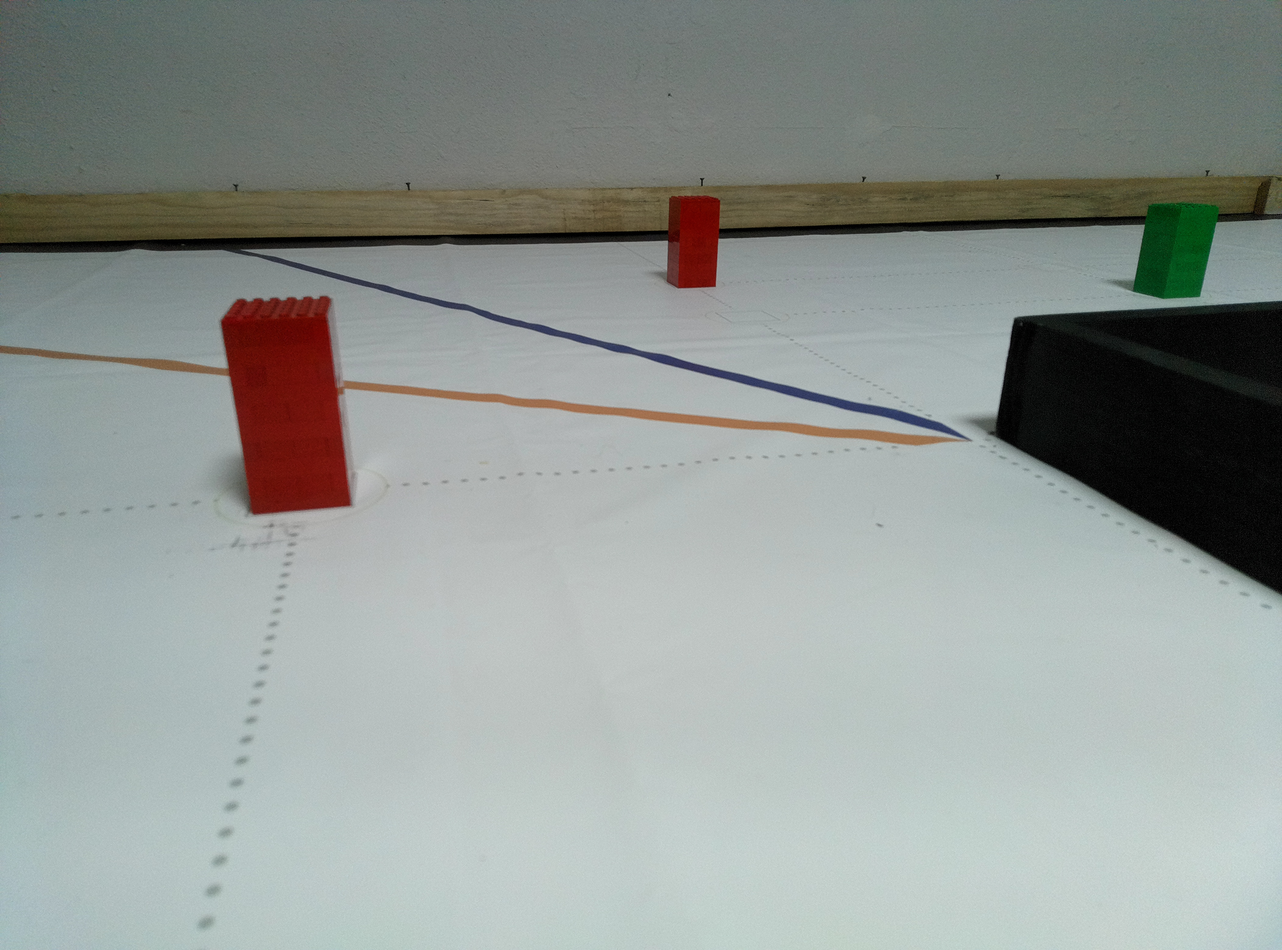greenbox: (1132, 201, 1220, 301)
redbox: (215, 296, 360, 513), (666, 194, 720, 288)
